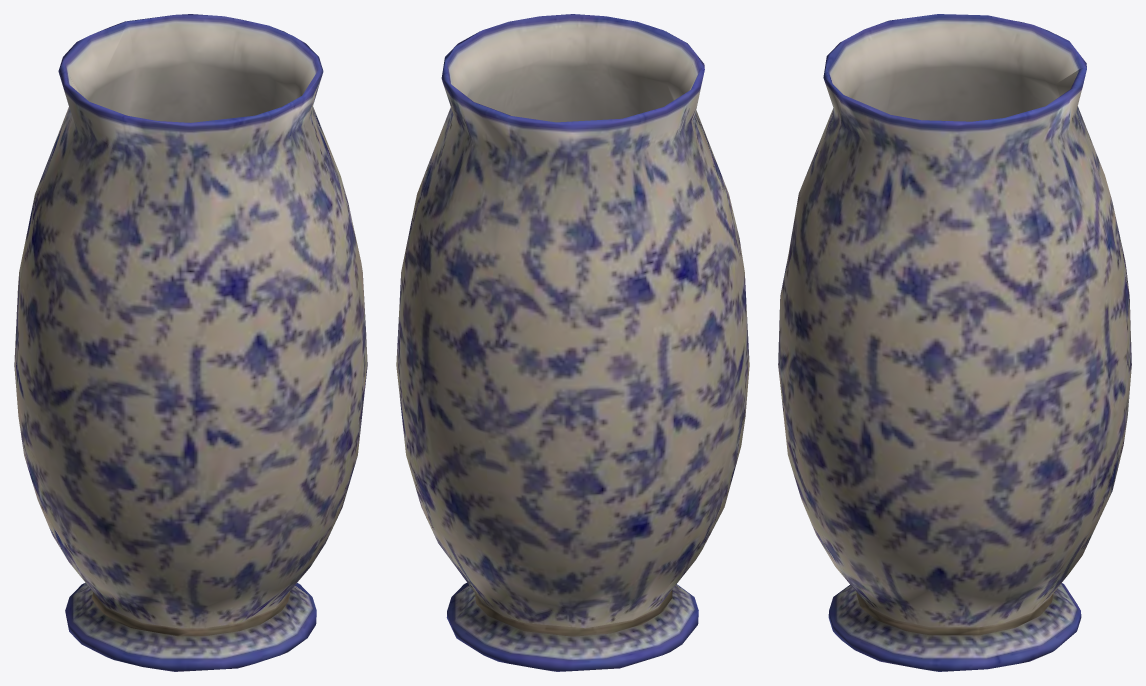
Rendered from antique_ceramic_vase_01.glb.
The picture shows the model from 3 angles, left to right: view 1: azimuth 30°, elevation 25°; view 2: azimuth 150°, elevation 25°; view 3: azimuth 270°, elevation 25°; orthographic projection.
Visible parts, largest first — view 1: antique_ceramic_vase_01; view 2: antique_ceramic_vase_01; view 3: antique_ceramic_vase_01.
Part boxes in pixels (<box>): antique_ceramic_vase_01: <box>14,14,367,671</box>; antique_ceramic_vase_01: <box>396,14,749,671</box>; antique_ceramic_vase_01: <box>778,14,1131,671</box>.
Size of the model in its own units: 0.2548 by 0.4396 by 0.2548.
1 material, 1 textured.
